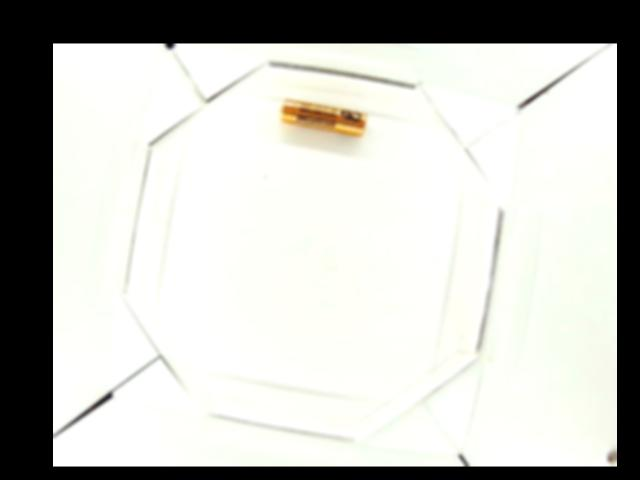Battery: (282, 97, 366, 138)
